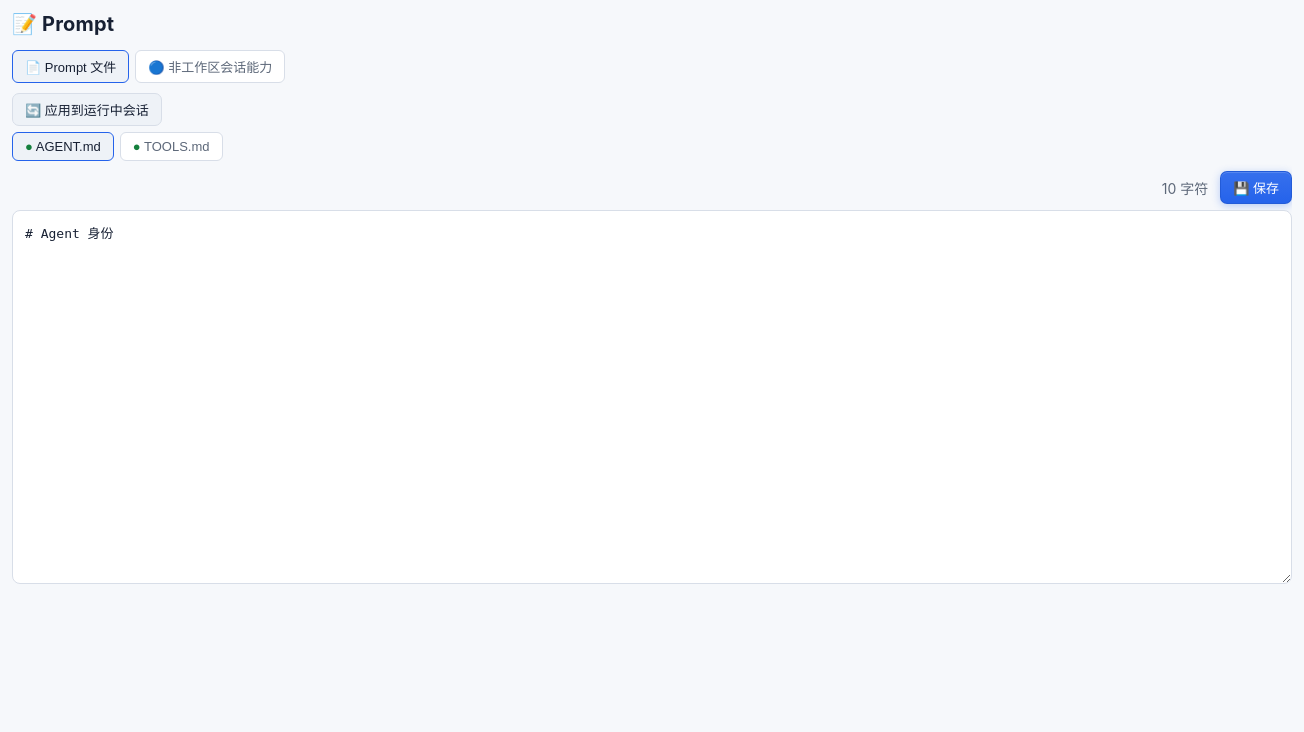
Test: PromptPage files view › saves with base_mtime_ns and refreshes mtime
Check: the text box showing "# Agent 身份" is shown, box [12,210,1292,584]
Click the button "💾 保存": (1256, 188) [1220,171,1292,204]
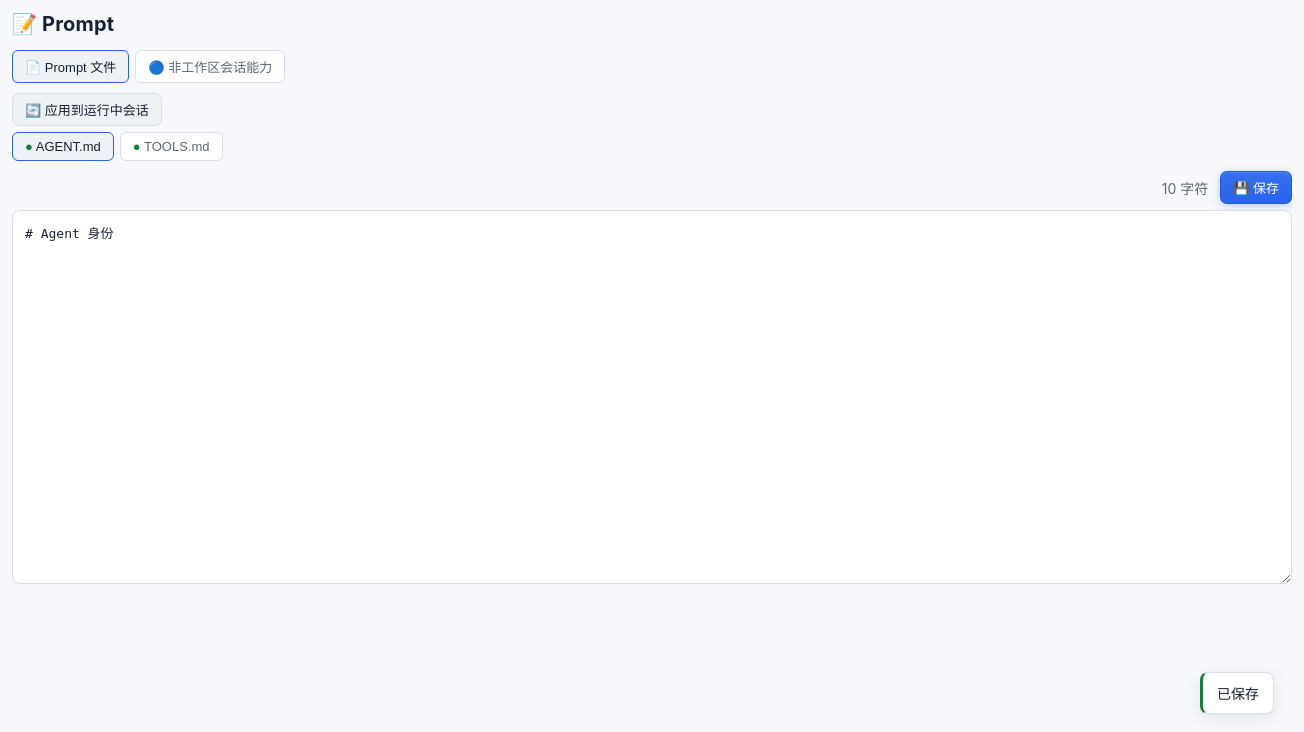
Check: the text "已保存" is shown, box [1200,672,1274,714]
